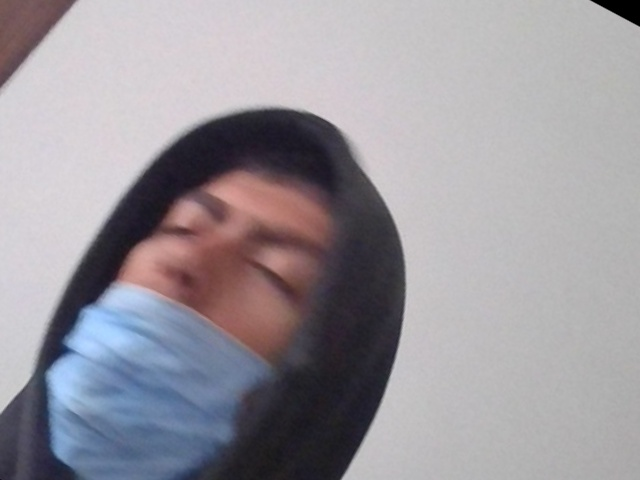mask_weared_incorrect: (41, 134, 344, 479)
